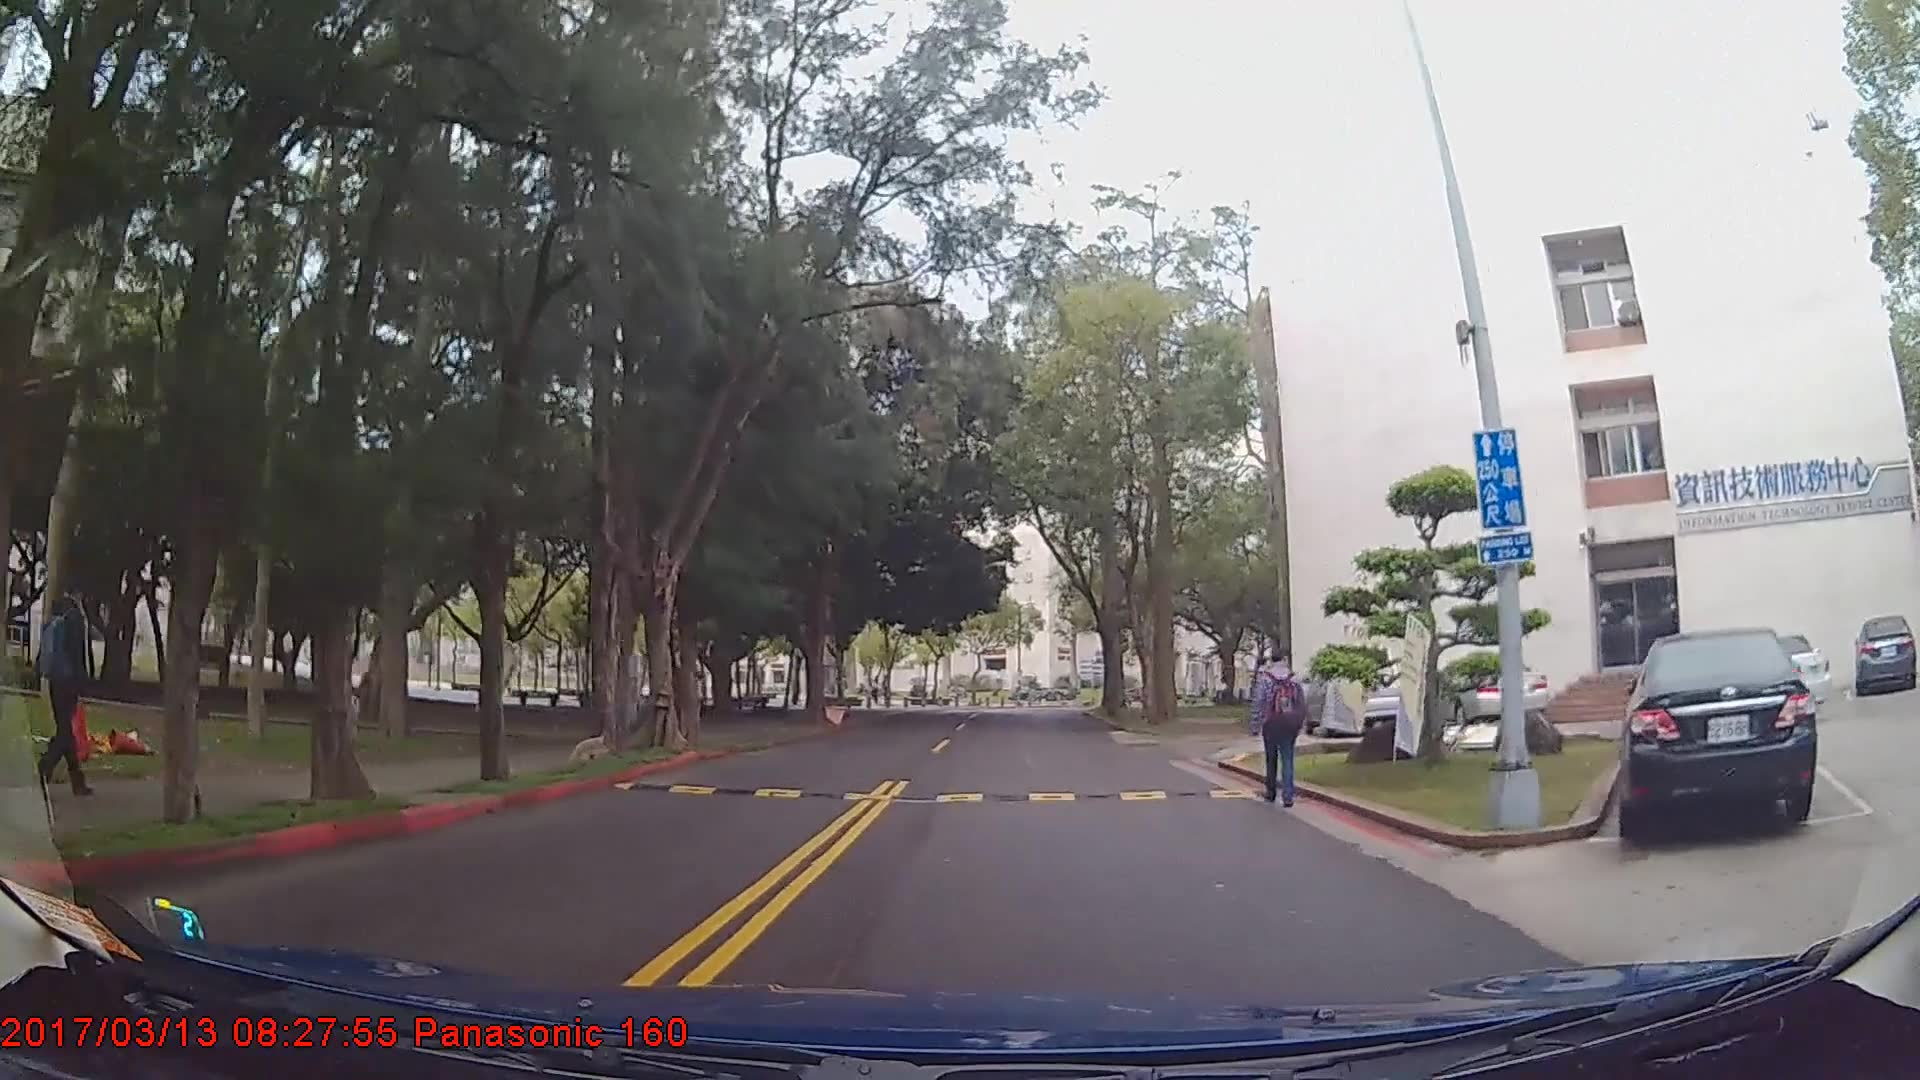pedestrian: (24, 552, 112, 806), (1249, 645, 1322, 815)
vehicle: (1614, 625, 1819, 844), (1851, 613, 1914, 695)
